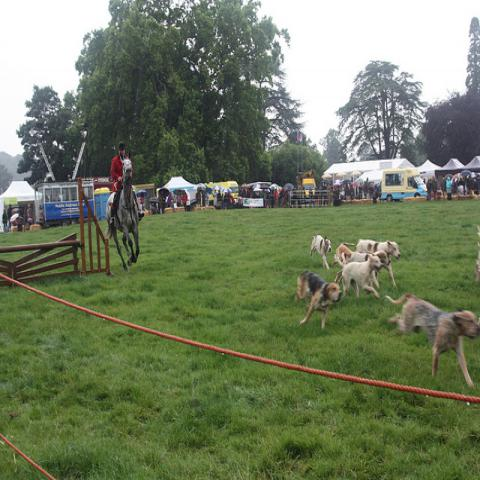bus: (34, 181, 95, 232), (380, 168, 428, 202), (212, 180, 239, 198)
truck: (382, 168, 428, 200), (132, 182, 156, 210), (296, 169, 316, 196)
